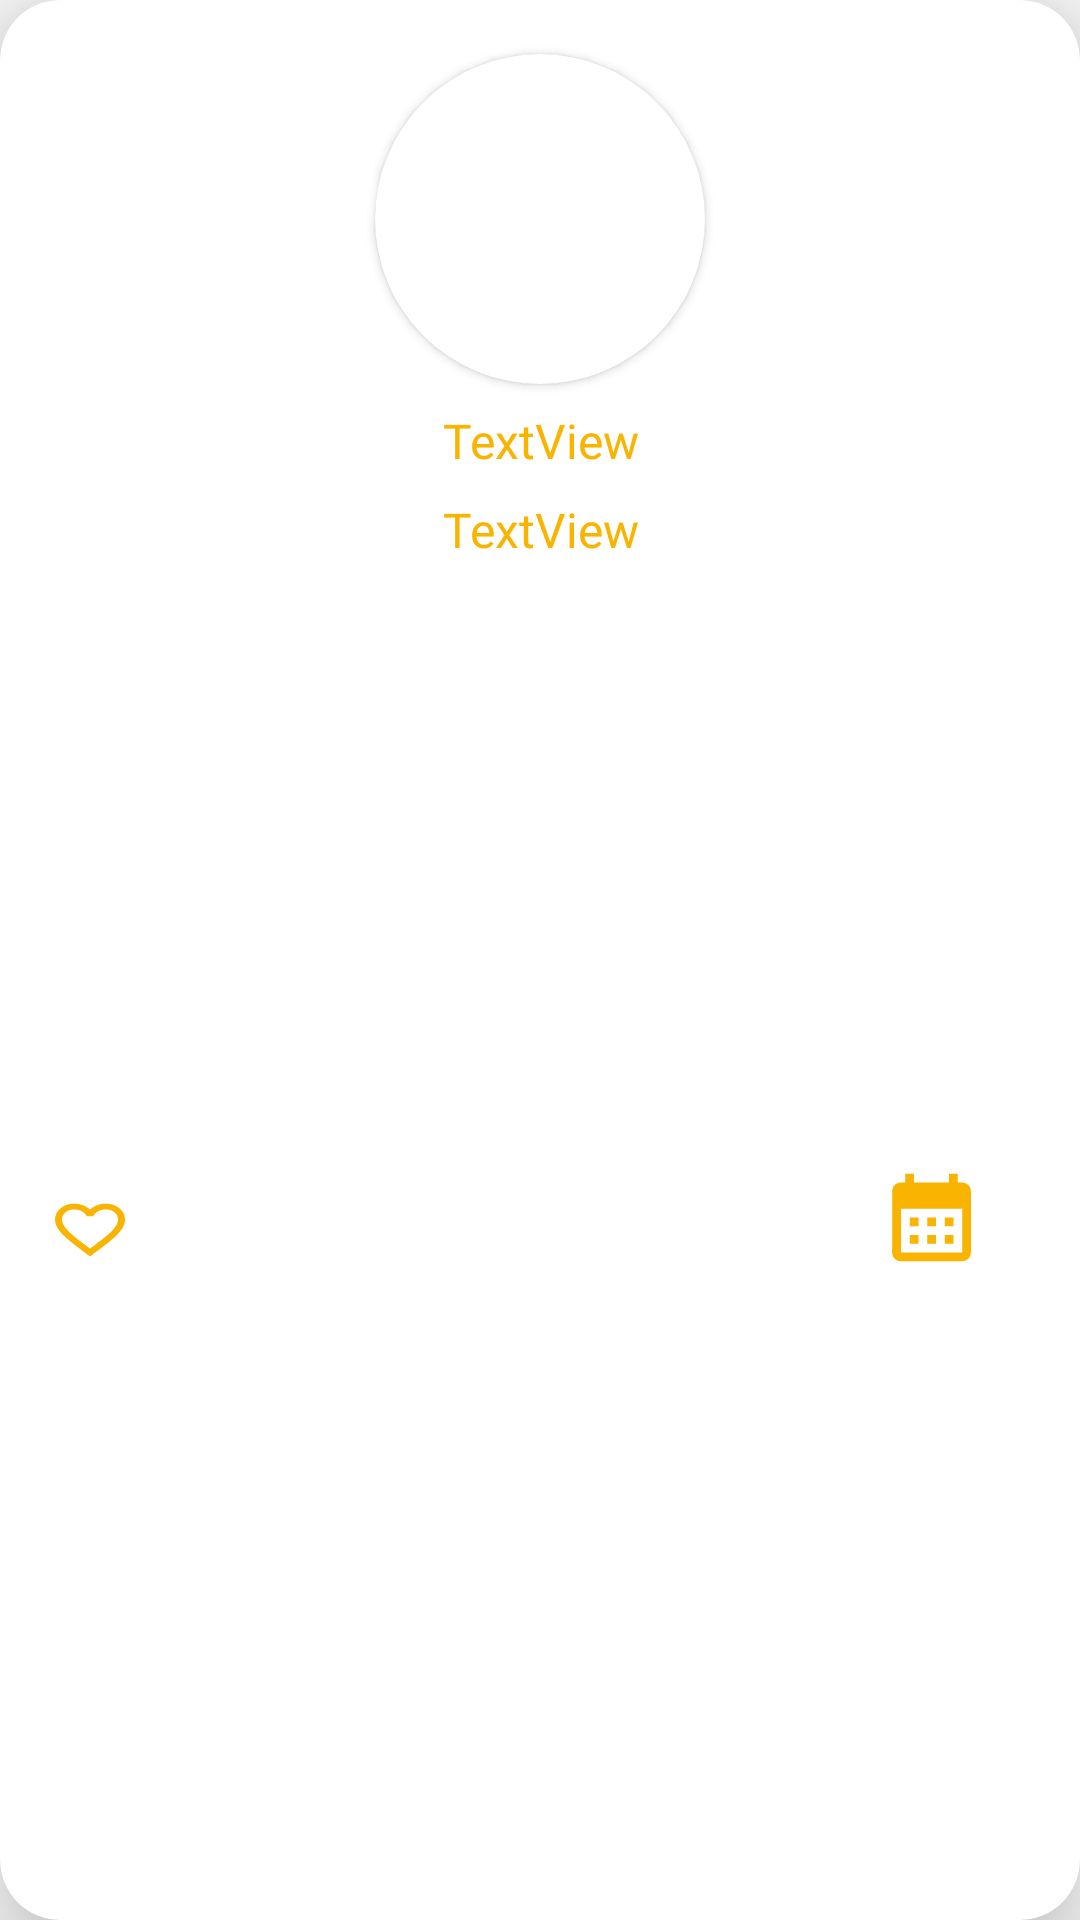

Point at icon controls on the screen. Image size 1080x1920, points as (x=x, y=y).
calendar: (x=931, y=1217)
favorite border: (x=90, y=1229)
